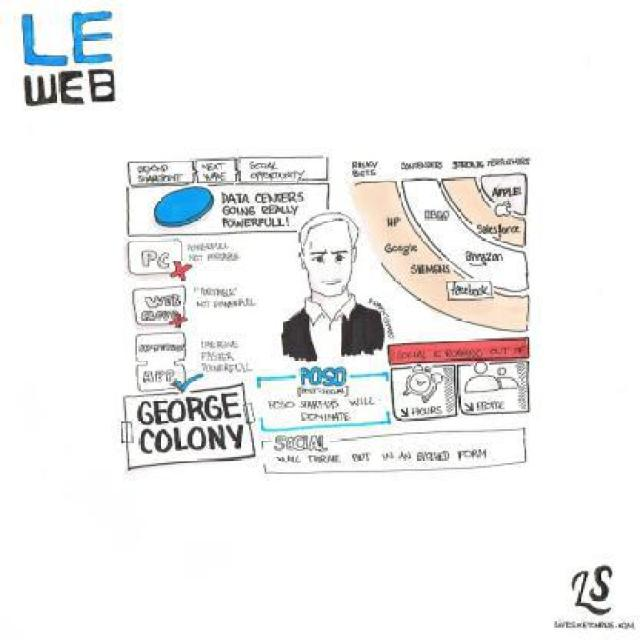Person: (284, 216, 393, 361)
